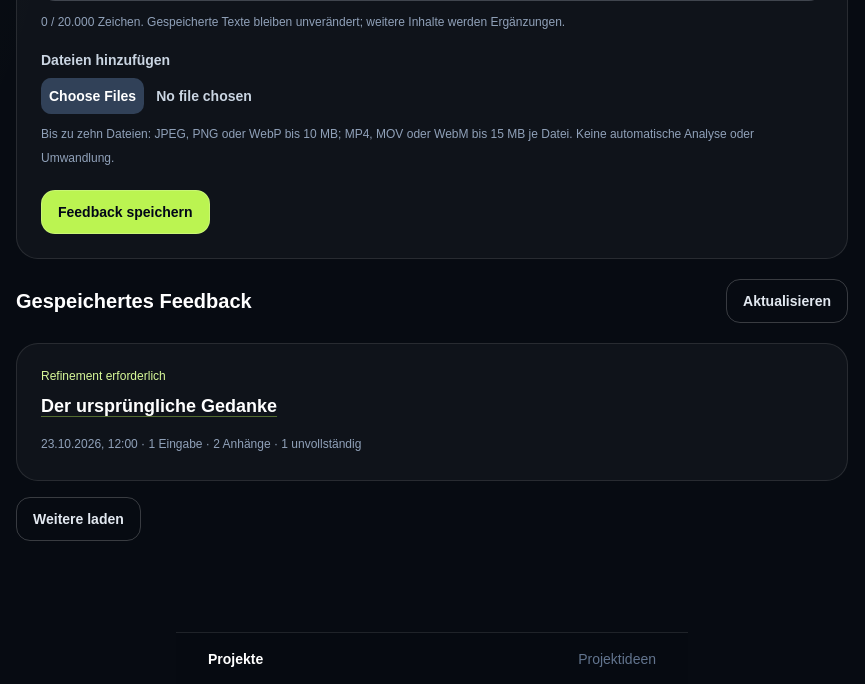
LUUFI-12 Feedback lesen und ergänzen › zeigt paginierte Feedbackzusammenfassungen, Unvollständigkeit und geschützte Projektlinks
(page scrolled)
expect the text "23.10.2026, 12:00 · 1 Eingabe · 2 Anhänge · 1 unvollständig" is shown: met, box [41,437,361,451]
Click the button "Weitere laden". click: coordinates (78, 519)
box: [16,497,141,541]
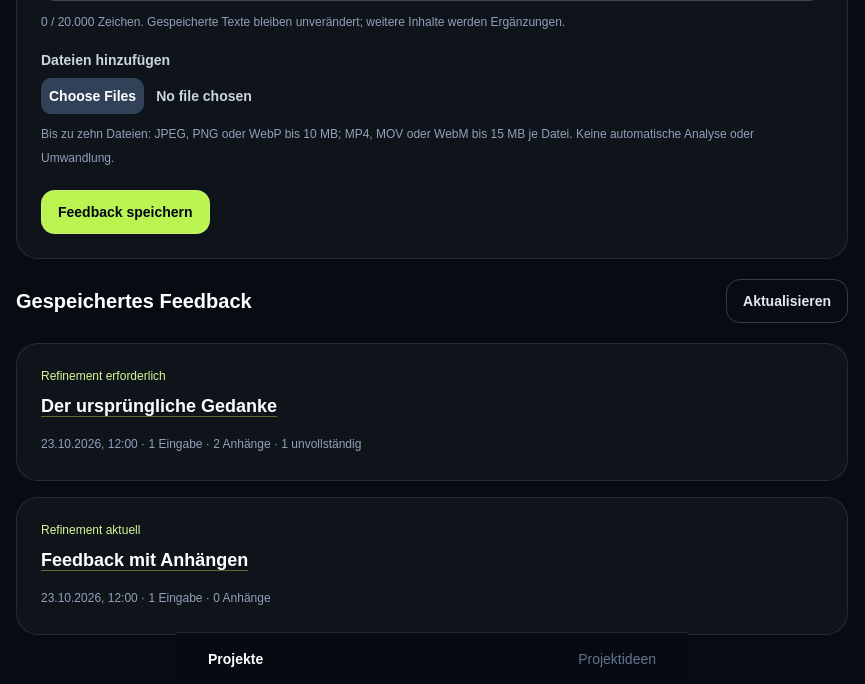
expect the link "Feedback mit Anhängen" is shown: met, box [41,550,248,570]
expect the text "Refinement aktuell" is shown: met, box [41,523,140,537]
